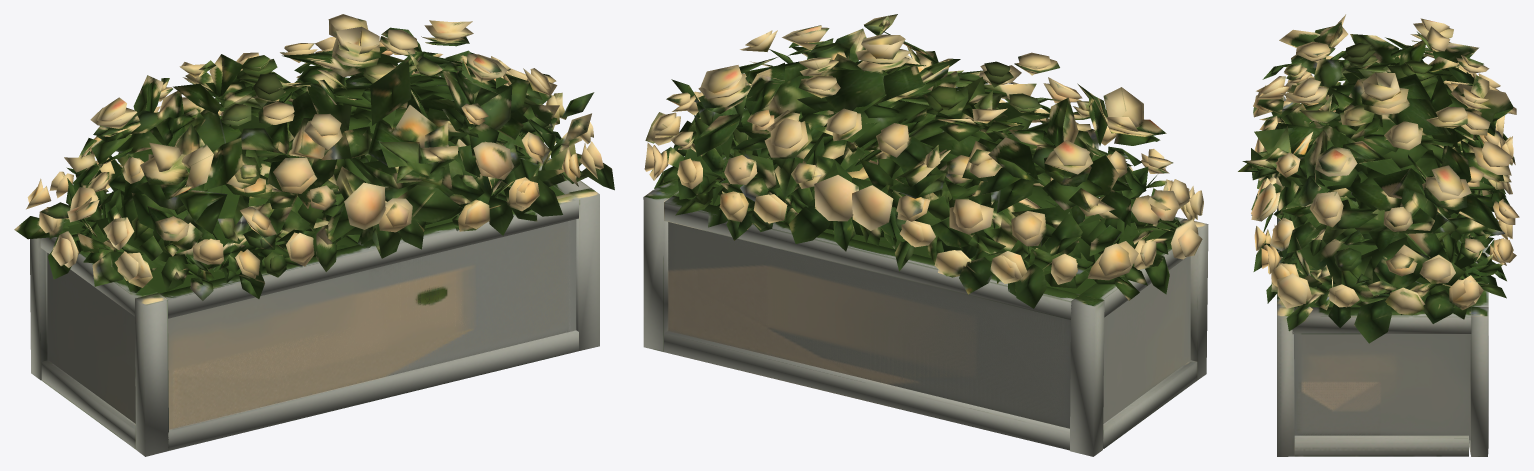
File: flower_planter.glb
3 views of the same model, side by side, from view 1: azimuth 30°, elevation 25°; view 2: azimuth 150°, elevation 25°; view 3: azimuth 270°, elevation 25° (orthographic). The views are drawn at different scales.
Visible parts, largest first — view 1: flower_planter; view 2: flower_planter; view 3: flower_planter.
Boxes of the visible parts, x1,y1,x2,y2 form: flower_planter: (14,14,614,456); flower_planter: (643,14,1208,456); flower_planter: (1238,14,1519,456).
Size of the model in its own units: 0.963 by 0.55 by 0.4798.
1 material, 1 textured.
